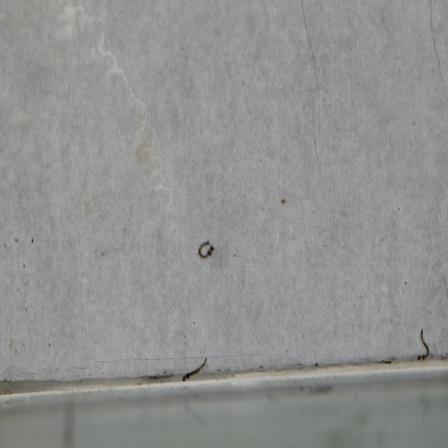Jentik-Nyamuk: (179, 354, 211, 385), (413, 326, 435, 363), (194, 235, 220, 264)
